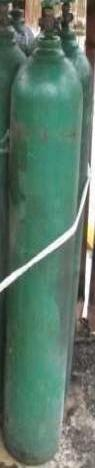cylinder: (1, 1, 95, 468)
